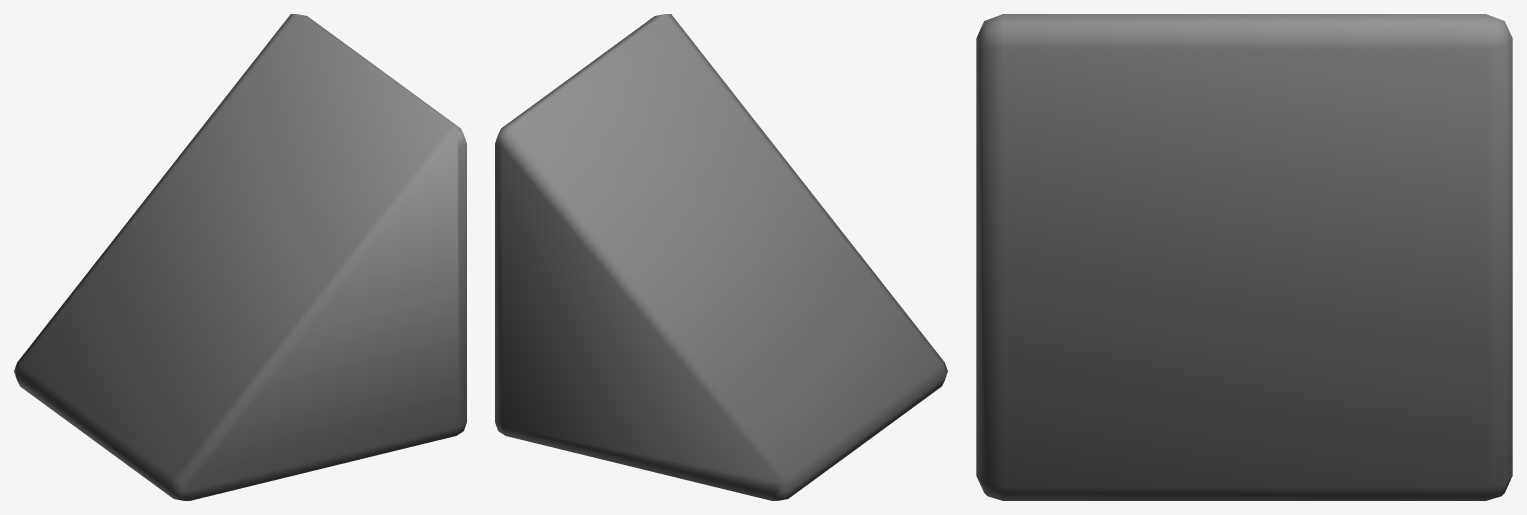
The model's file is 3D_Tile_Dungeon_Slope_01.fbx.
3 views of the same model, side by side, from view 1: azimuth 30°, elevation 25°; view 2: azimuth 150°, elevation 25°; view 3: azimuth 270°, elevation 25° (orthographic). The views are drawn at different scales.
Visible parts, largest first — view 1: 3D_Tile_Dungeon_Slope_01; view 2: 3D_Tile_Dungeon_Slope_01; view 3: 3D_Tile_Dungeon_Slope_01.
Part boxes in pixels (bbox=[...]): 3D_Tile_Dungeon_Slope_01: bbox=[14, 14, 466, 500]; 3D_Tile_Dungeon_Slope_01: bbox=[495, 14, 947, 500]; 3D_Tile_Dungeon_Slope_01: bbox=[976, 14, 1512, 500].
Size of the model in its own units: 200 by 200 by 200.
